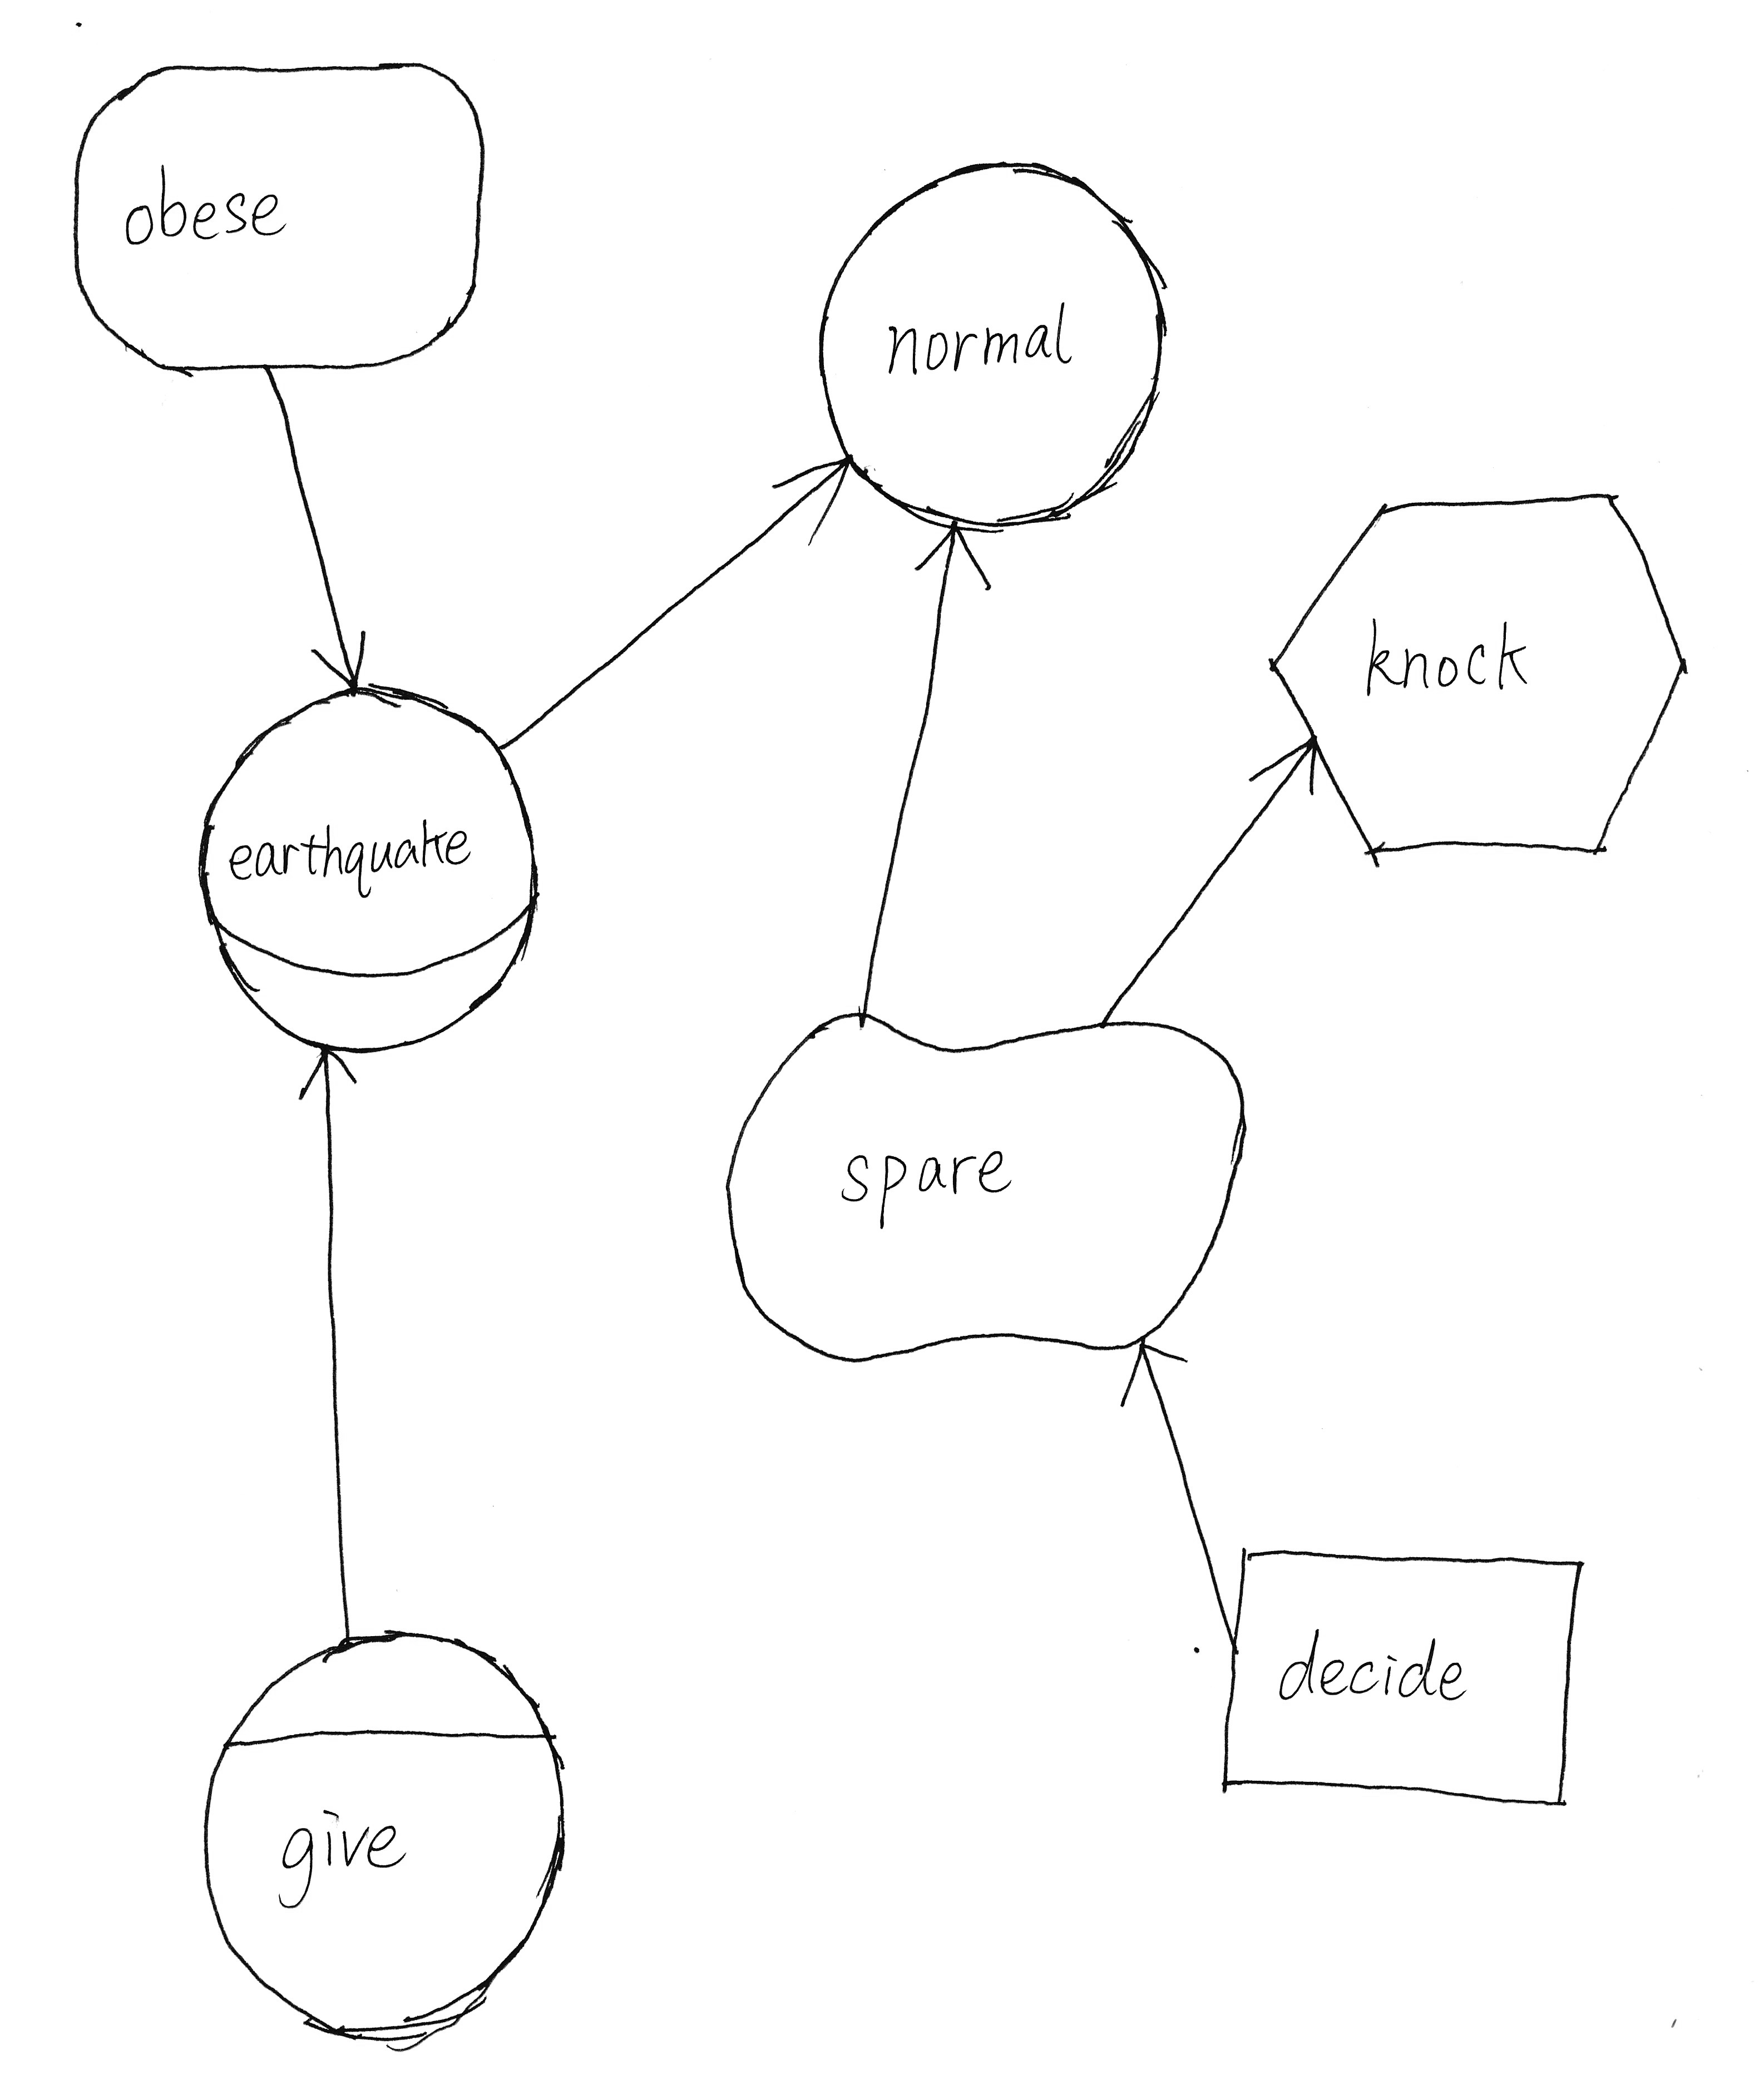actor: (796, 145, 1181, 555)
agent: (173, 1601, 592, 2063)
arrow: (757, 441, 869, 551), (295, 605, 401, 713), (1085, 1322, 1202, 1418), (904, 499, 1005, 609), (1232, 710, 1333, 818), (267, 1027, 377, 1123)
goal: (58, 40, 503, 396)
quality: (698, 978, 1269, 1383)
resource: (1192, 1524, 1616, 1837)
role: (176, 665, 558, 1073)
task: (1258, 476, 1714, 881)
